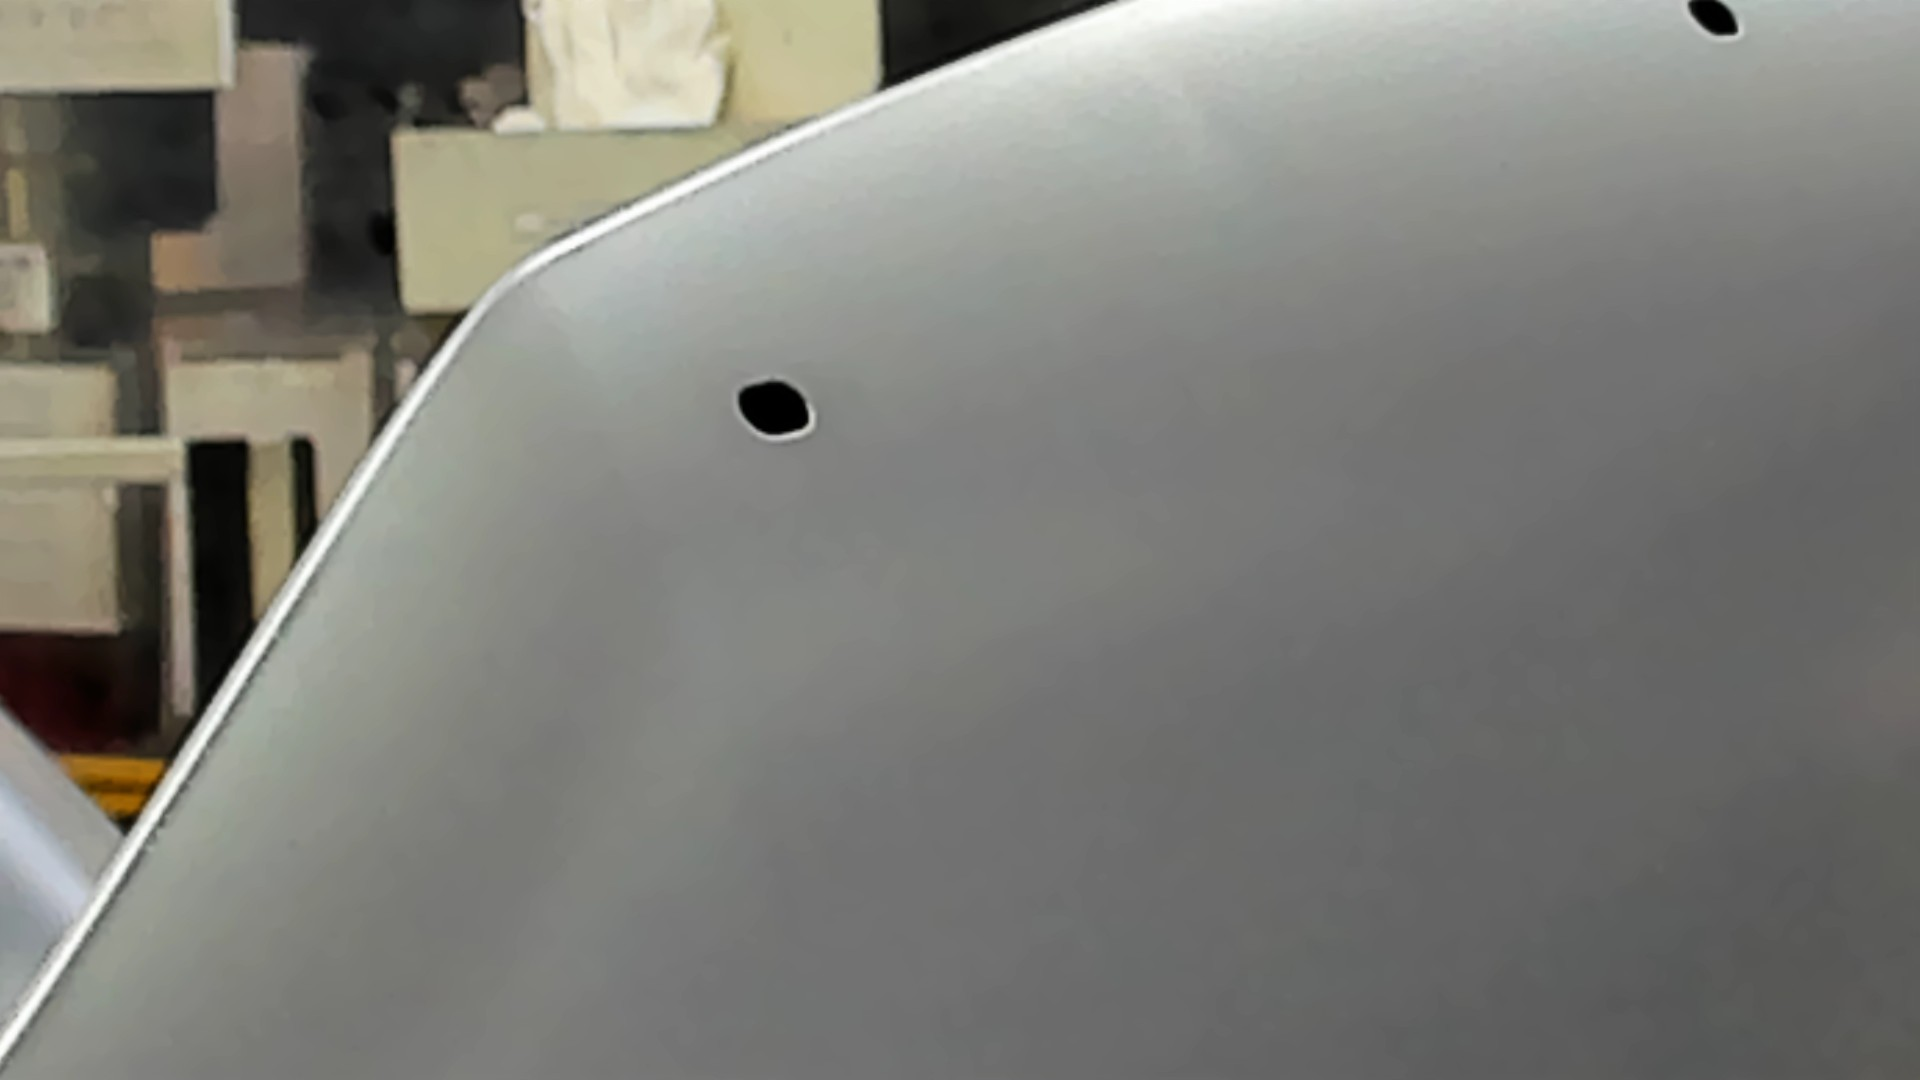amorfo: (732, 376, 818, 438), (1687, 1, 1751, 47)
